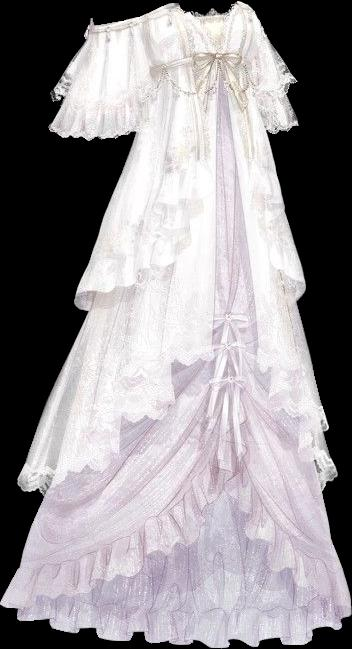Bodice: (137, 1, 257, 69)
Hemline: (19, 56, 221, 498), (1, 453, 351, 609), (217, 64, 337, 490), (74, 58, 207, 313), (0, 597, 351, 648), (229, 55, 303, 283)
Neckline: (137, 0, 254, 20)
Skirt: (0, 57, 351, 647)
Sleeve: (48, 15, 153, 140)
Sleeveline: (82, 17, 140, 34)
Waistline: (150, 50, 253, 76), (49, 78, 153, 102)
